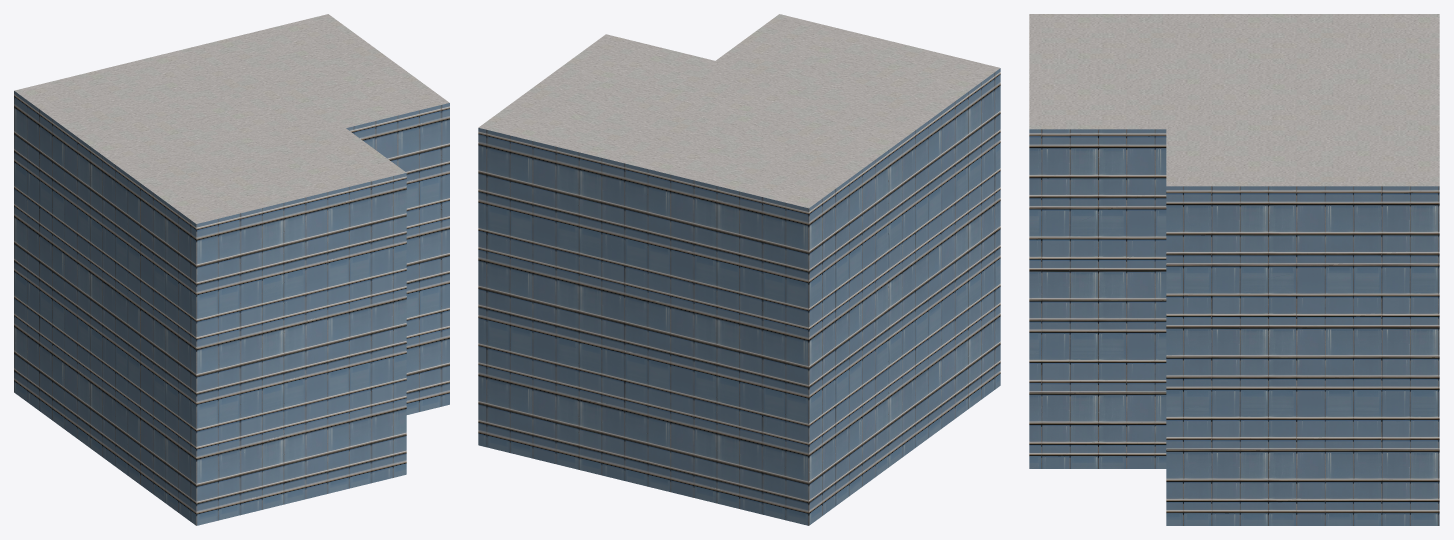
File: building_055.fbx
3 views of the same model, side by side, from view 1: azimuth 30°, elevation 25°; view 2: azimuth 150°, elevation 25°; view 3: azimuth 270°, elevation 25° (orthographic). The views are drawn at different scales.
Parts seen in each view (by area): view 1: building_055; view 2: building_055; view 3: building_055.
Boxes of the visible parts, x1,y1,x2,y2 form: building_055: (14, 14, 449, 525); building_055: (478, 14, 1000, 525); building_055: (1029, 14, 1439, 525).
Bounding box in the file's own units: 1307 × 1200 × 1314.
